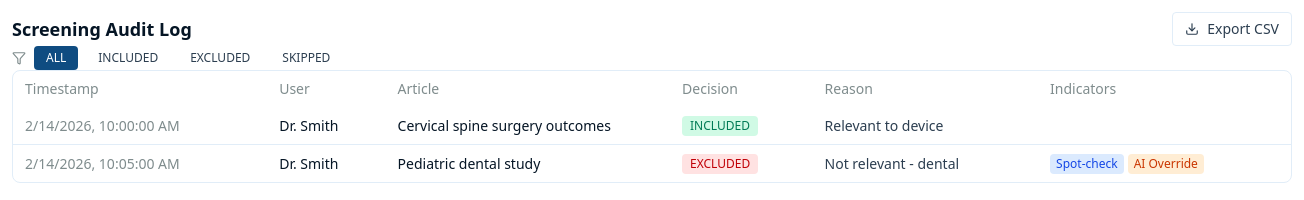
Scenario: ScreeningAuditPanel › clicking filter updates query and shows filtered results
Expected: the table with test id "audit-table" is shown, top-left (13, 71), bottom-right (1291, 182)
Click the button with test id "audit-filter-excluded": (220,58) top-left (178, 46), bottom-right (262, 70)
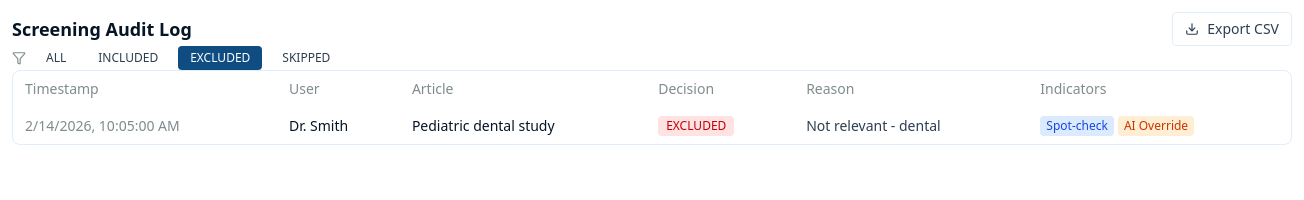
Expected: the row with test id "audit-row-entry-2" is shown, top-left (13, 107), bottom-right (1291, 144)
Now the row with test id "audit-row-entry-1" is gone
